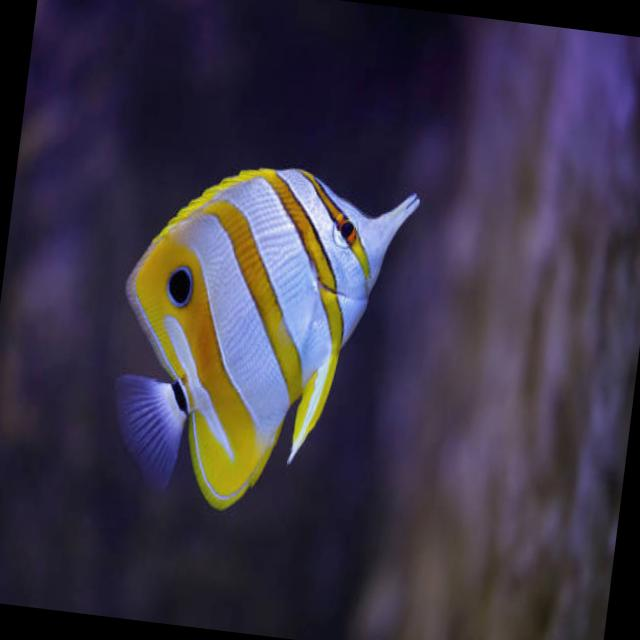ButterflyFish: (90, 142, 423, 536)
